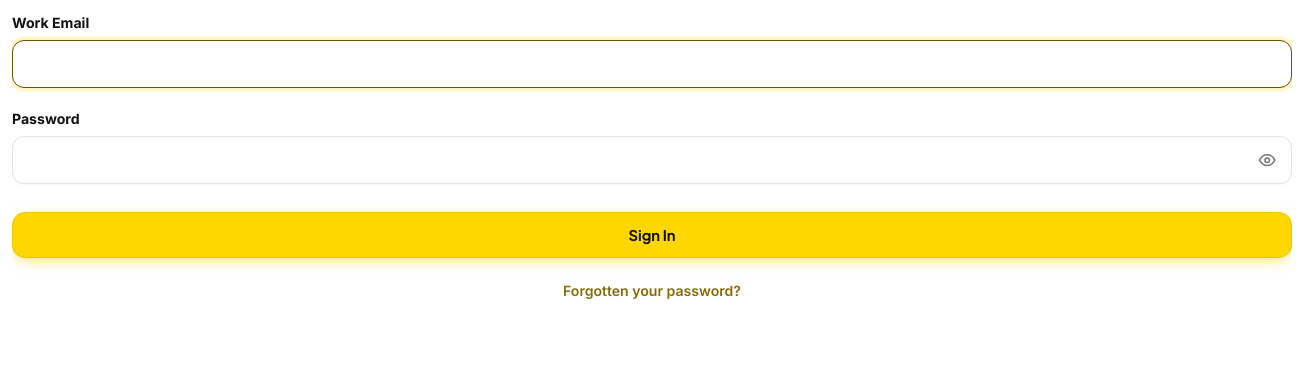
Test: LoginForm › shows the server's message on a failed sign-in
Type "hr@qonicsystems.com" into the field labelled "Work Email" at [652, 64], box [12,40,1292,88]
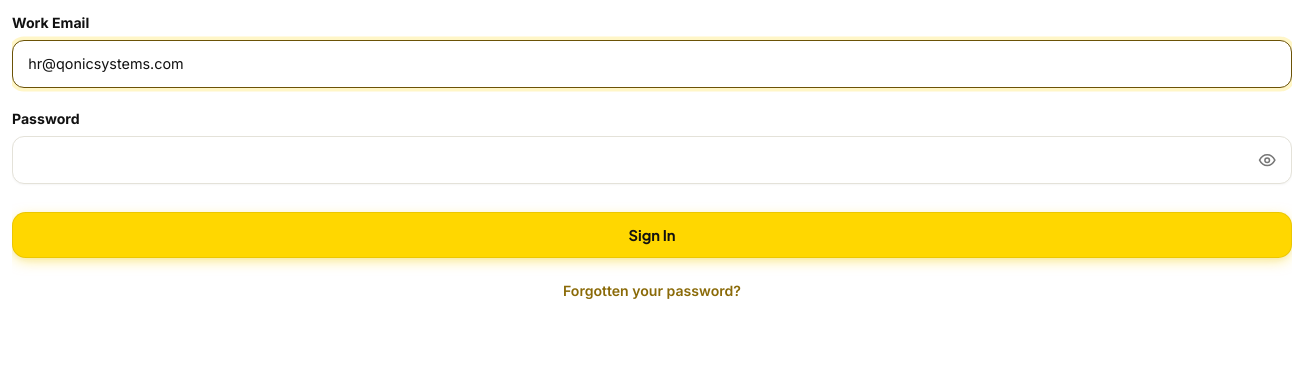
Type "wrong" into the password field labelled "Password" at [652, 160], box [12,136,1292,184]
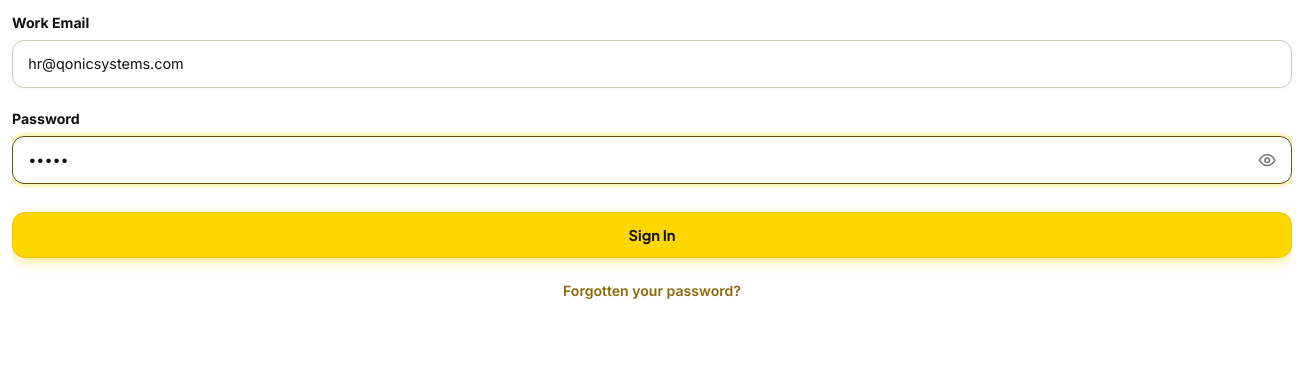
Click the button "Sign In" at [652, 235], box [12,212,1292,258]
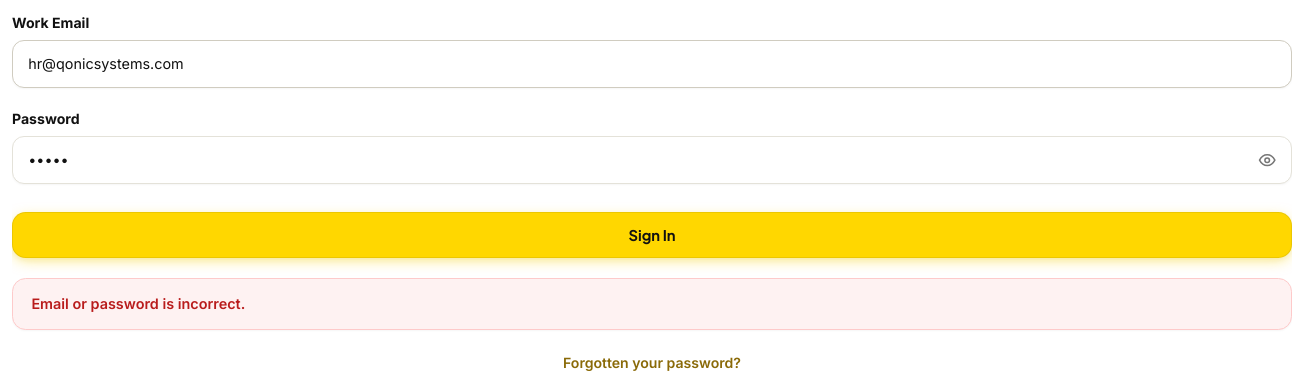
expect the message reads "Email or password is incorrect.": met, box [31,295,245,312]
